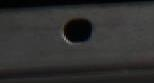holes: (61, 17, 95, 44)
